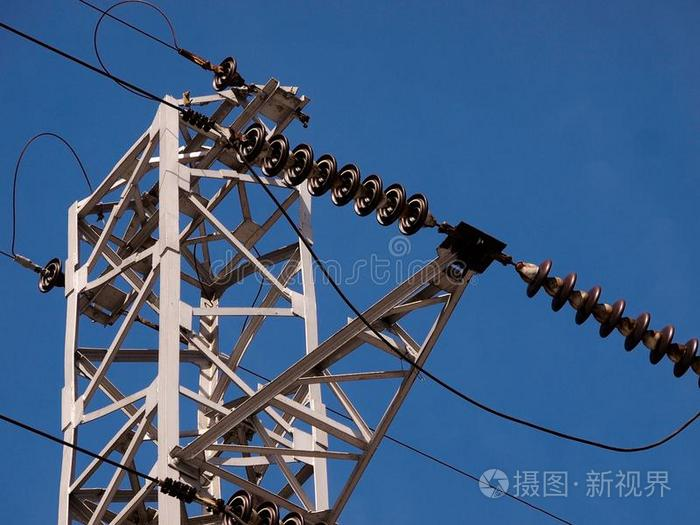insulator: (239, 121, 429, 237), (524, 257, 699, 378), (221, 488, 307, 525), (208, 56, 242, 94), (36, 259, 64, 295)
